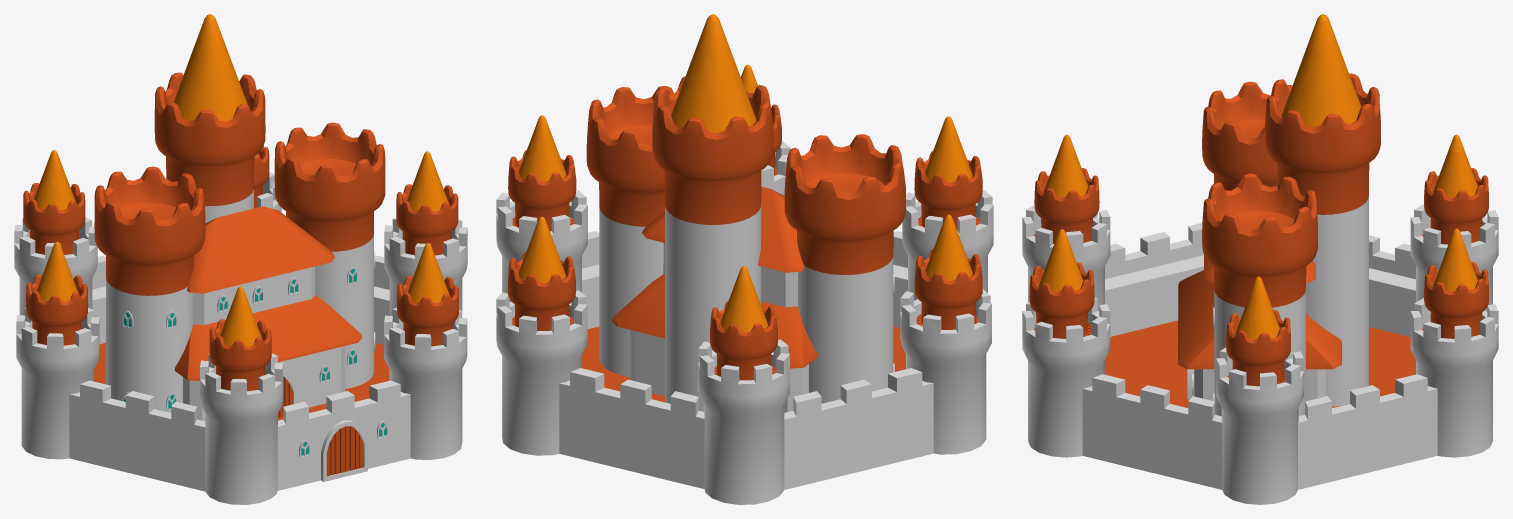
The model's file is Hex_Castle_Upgrade2_Stage1.fbx.
3 renders of one model, left to right at view 1: azimuth 30°, elevation 25°; view 2: azimuth 150°, elevation 25°; view 3: azimuth 270°, elevation 25°, orthographic. The views are drawn at different scales.
Visible parts, largest first — view 1: Hexagon_Castle_Upgrade2_Stage1; view 2: Hexagon_Castle_Upgrade2_Stage1; view 3: Hexagon_Castle_Upgrade2_Stage1.
Boxes of the visible parts, left/top/right/bottom form: Hexagon_Castle_Upgrade2_Stage1: left=14, top=14, right=467, bottom=504; Hexagon_Castle_Upgrade2_Stage1: left=496, top=14, right=993, bottom=504; Hexagon_Castle_Upgrade2_Stage1: left=1022, top=14, right=1498, bottom=504.
Size of the model in its own units: 1129 by 890 by 1010.
Materials: 1 (1 with a texture image).
